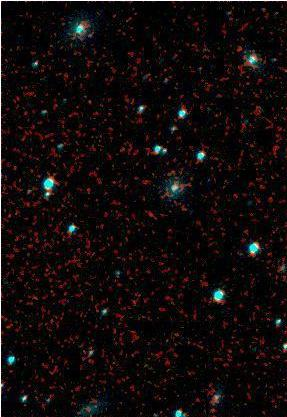star: (75, 16, 105, 46)
